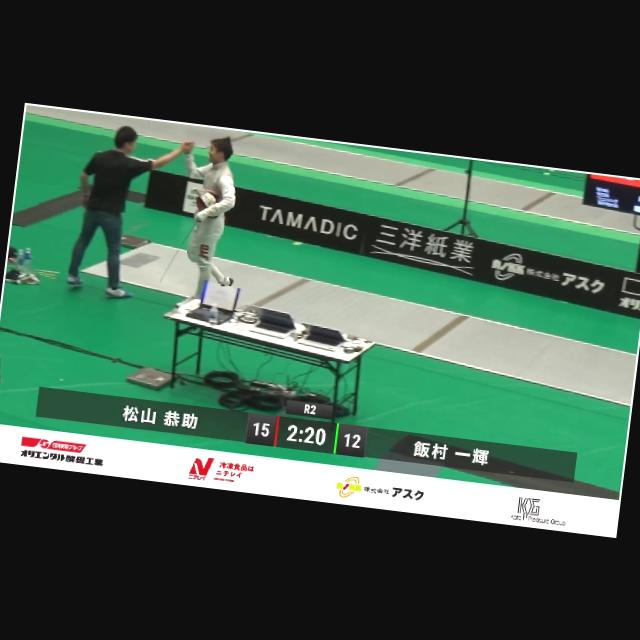blade: (154, 210, 203, 295)
